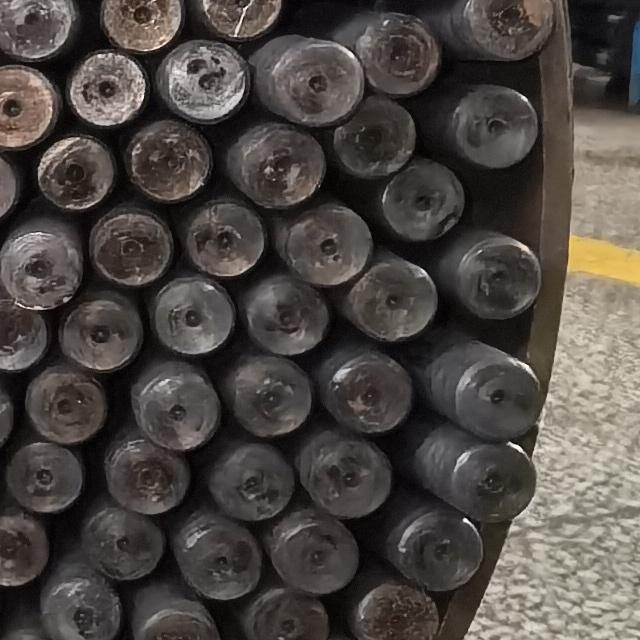tool: (247, 36, 360, 128), (217, 118, 325, 207), (311, 342, 412, 434), (439, 230, 540, 320), (343, 247, 440, 340), (166, 511, 260, 602), (131, 355, 222, 449), (196, 437, 296, 521), (297, 431, 391, 518), (1, 215, 86, 308), (280, 202, 374, 286), (451, 84, 540, 170), (124, 116, 215, 200), (156, 41, 250, 122), (374, 158, 465, 241), (268, 510, 360, 592), (442, 0, 562, 62), (449, 360, 545, 436), (356, 11, 442, 95), (238, 276, 328, 356), (394, 513, 482, 593), (147, 273, 235, 353), (329, 95, 413, 178), (60, 290, 144, 373), (90, 201, 173, 285), (37, 557, 121, 638), (65, 46, 152, 124), (79, 503, 165, 581), (32, 132, 115, 212), (107, 440, 189, 518), (26, 362, 107, 440), (2, 0, 99, 59), (5, 440, 84, 512), (188, 202, 264, 275), (236, 587, 327, 640), (0, 64, 56, 146), (360, 585, 441, 640), (96, 0, 186, 49), (0, 509, 47, 588), (192, 0, 285, 37), (0, 304, 47, 375), (132, 609, 219, 640), (0, 134, 20, 229)
